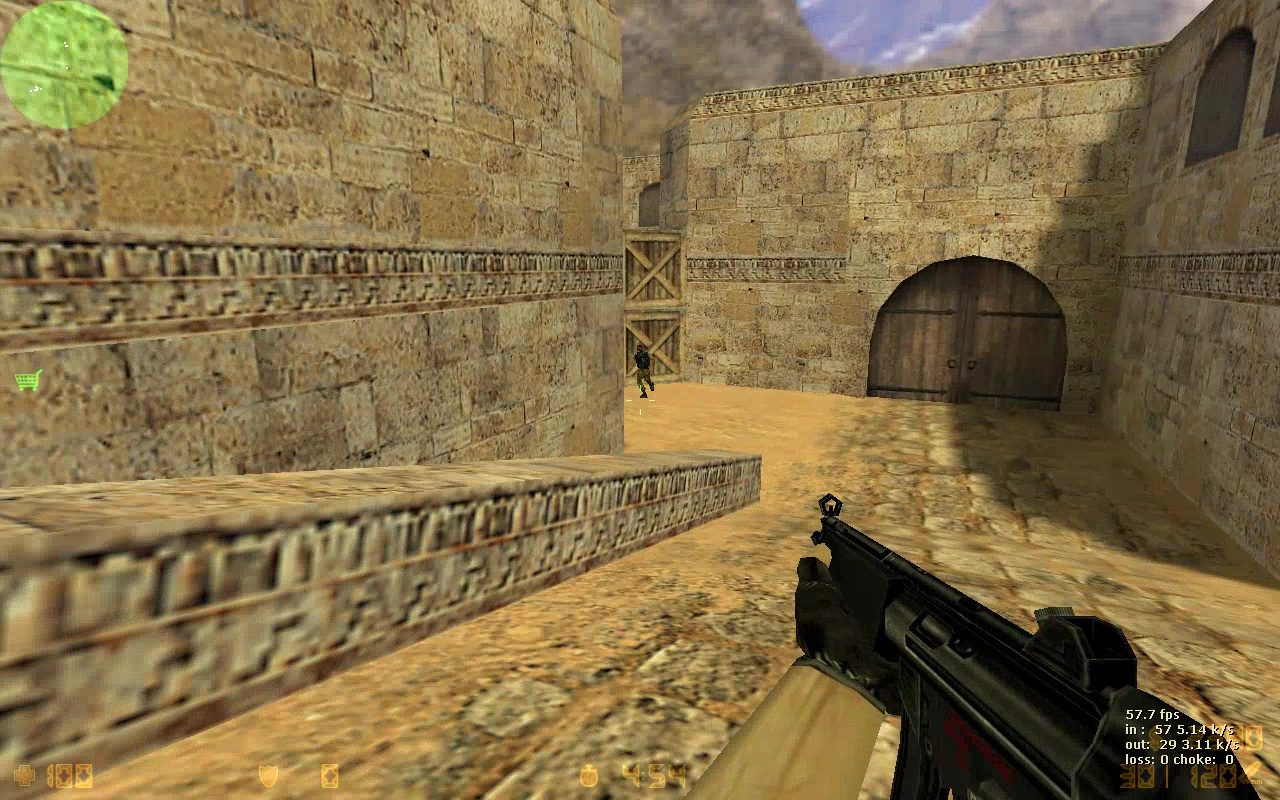terr1: (631, 344, 661, 400)
